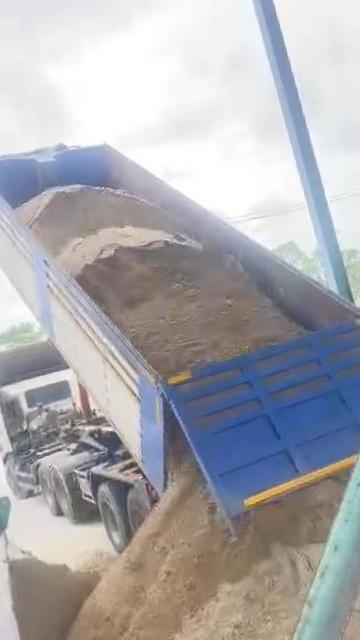sand: (18, 186, 302, 375), (50, 464, 343, 640), (9, 545, 99, 640), (325, 469, 360, 640), (80, 552, 114, 574)
